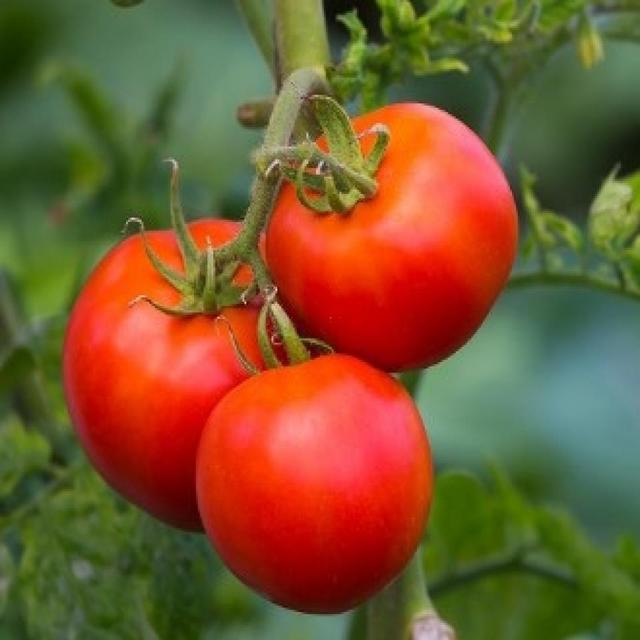Healthy Fruit: (116, 152, 265, 325)
